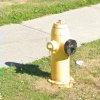a fire hydrant: (46, 18, 77, 86)
